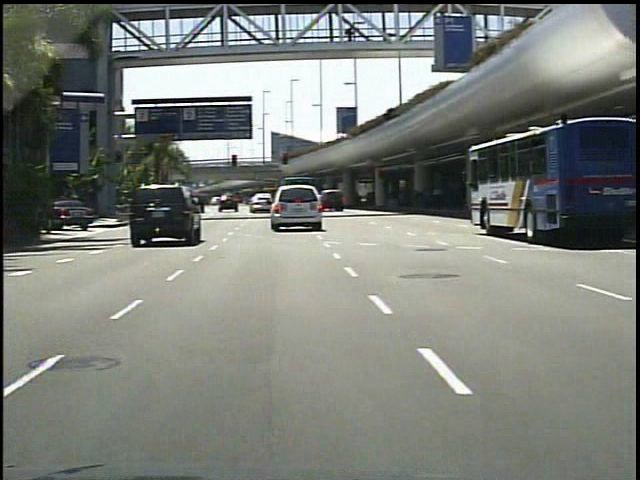person: (332, 25, 351, 50)
